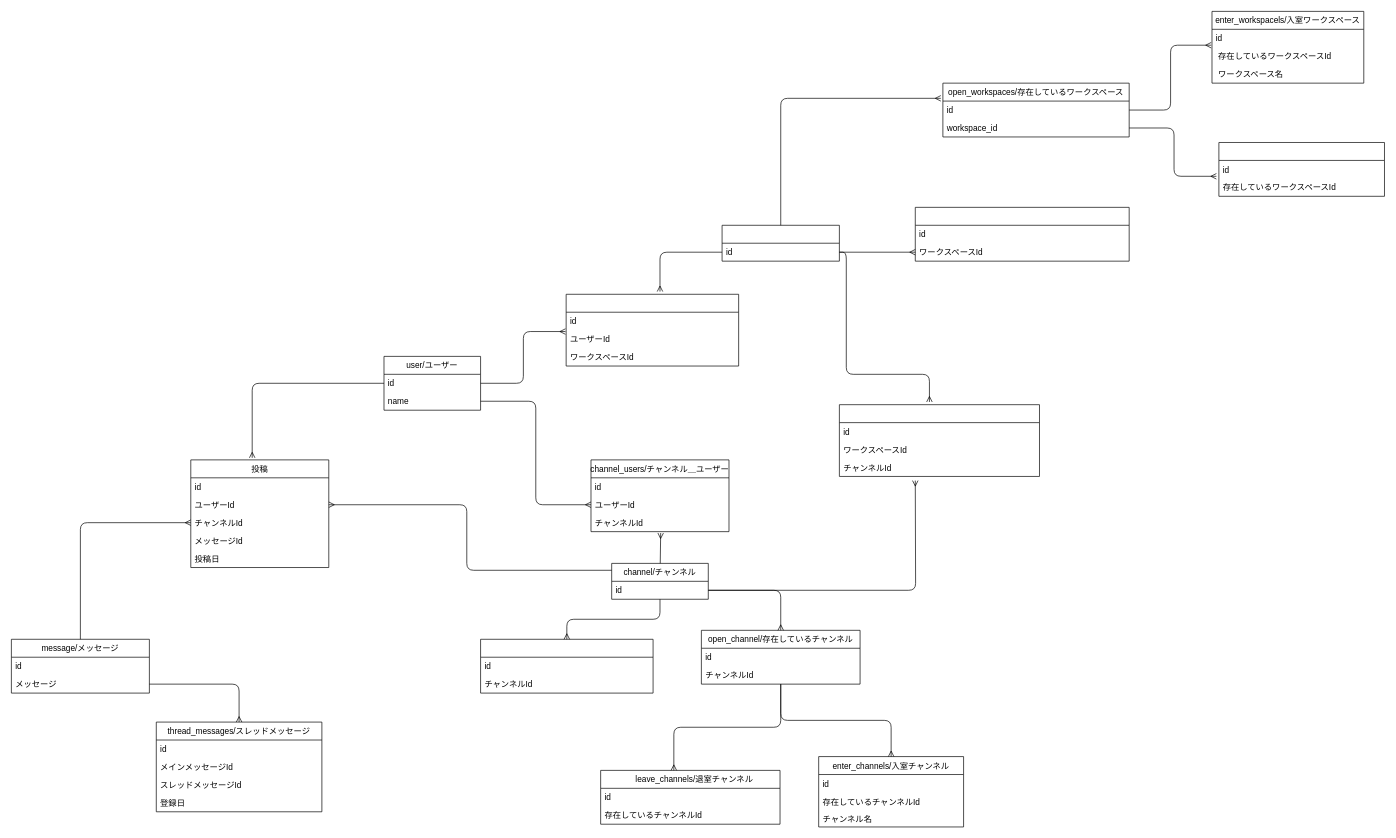
This 1396x838 diagram has some shape labels left out. The box of each missing label's shape, as (x1, y1, x2, y2) in pixels:
close_channel/閉じられたチャンネル: (480, 639, 653, 693)
close_workspace/存在していないワークスペース: (915, 207, 1129, 261)
leave_workspace/退室ワークスペース: (1218, 142, 1384, 196)
workspace_channel/ワークスペース＿チャンネル: (839, 404, 1039, 476)
workspace_users/ワークスペース＿ユーザー: (565, 294, 739, 366)
workspacel/ワークスペース: (721, 225, 839, 261)
